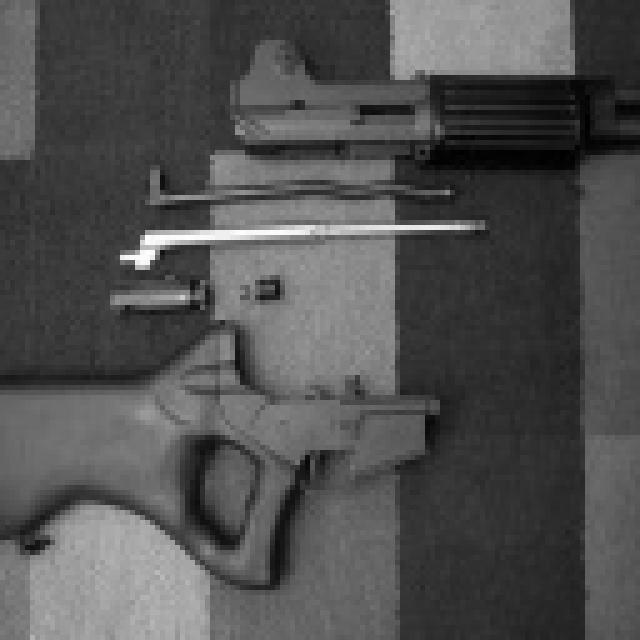Rifle: (76, 29, 640, 311), (0, 320, 470, 611)
